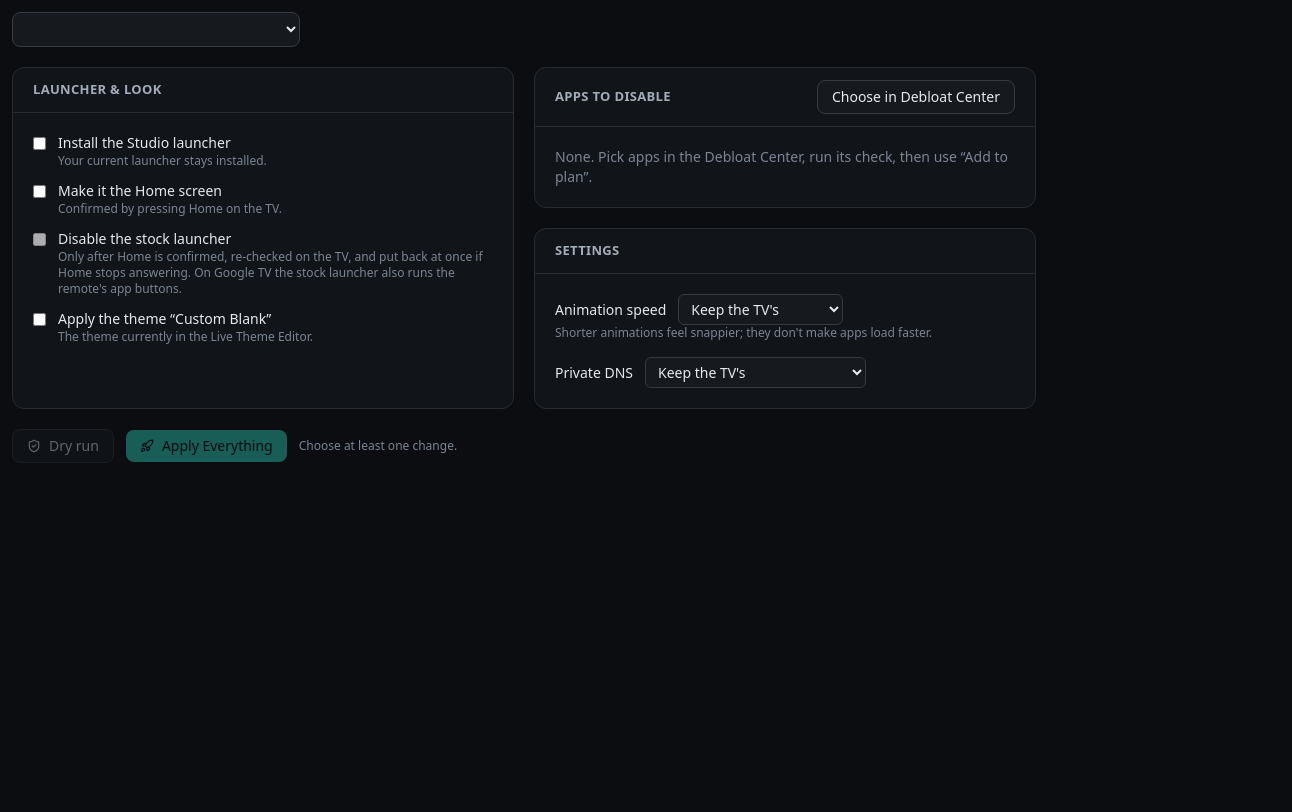
Test case: Deployment › needs a choice and a dry run before Apply Everything
Expected: the button "Apply Everything" is disabled, [126, 430, 287, 462]
Expected: the text "Choose at least one change." is shown, [299, 438, 457, 454]
Select "Faster (0.5×)" in the dropdown labelled "Animation speed". click: point(761, 309)
box: [678, 294, 843, 324]
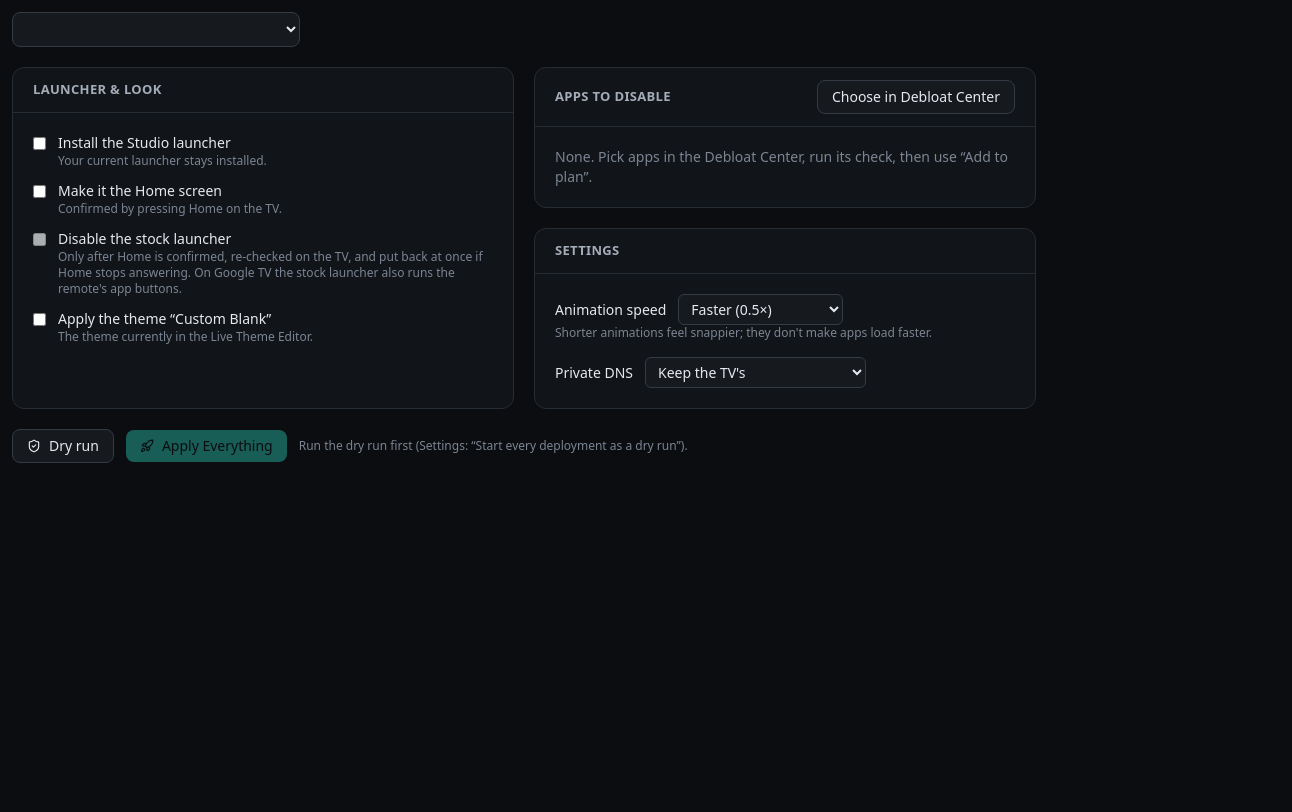
Expected: the button "Apply Everything" is disabled, [126, 430, 287, 462]
Click the button "Dry run". click: point(63, 446)
box: [12, 428, 114, 462]
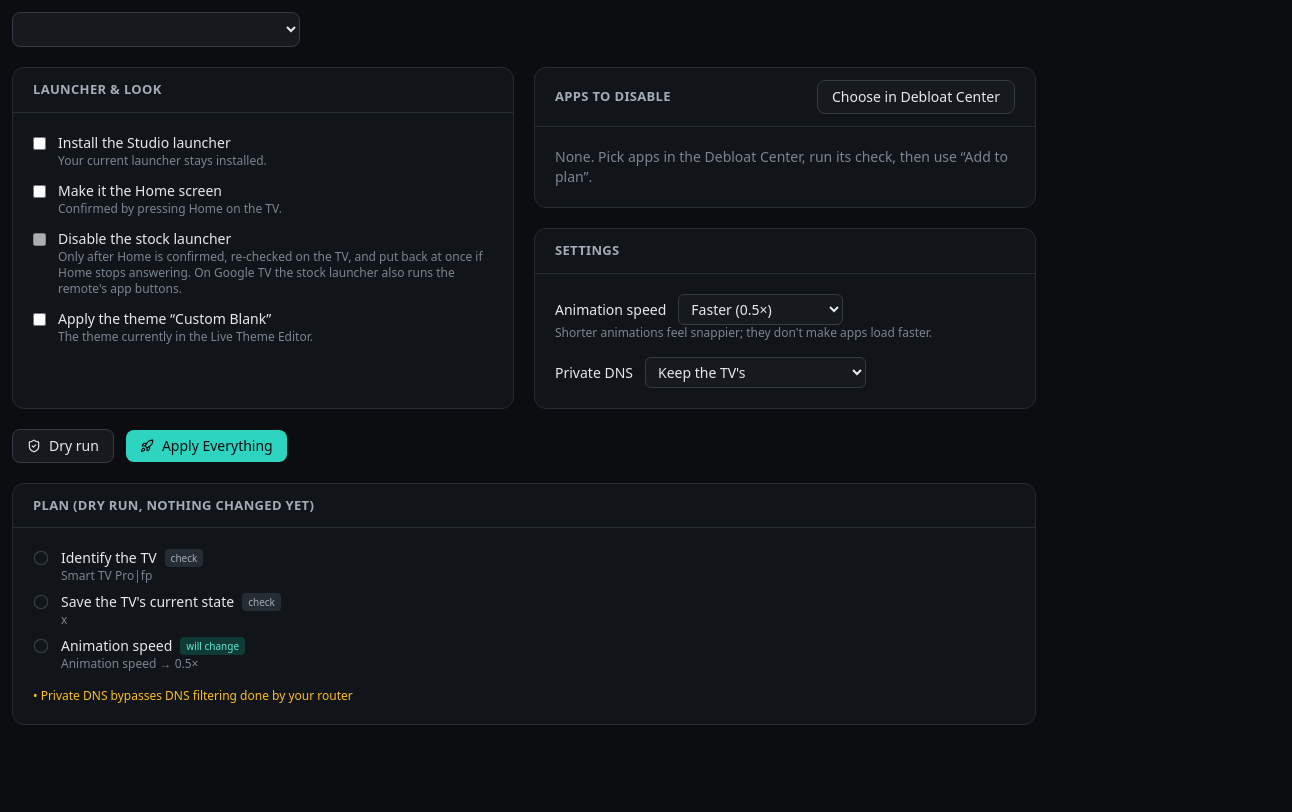
Expected: the text "Animation speed → 0.5×" is shown, [61, 655, 198, 672]
Expected: the text "will change" is shown, [180, 637, 245, 655]
Expected: the list item "• Private DNS bypasses DNS filtering done by your router" is shown, [33, 687, 353, 704]
// Changing the plan after the dry run requires a new one.
Select "Off" in the dropdown labelled "Animation speed". click: point(761, 309)
box: [678, 294, 843, 324]
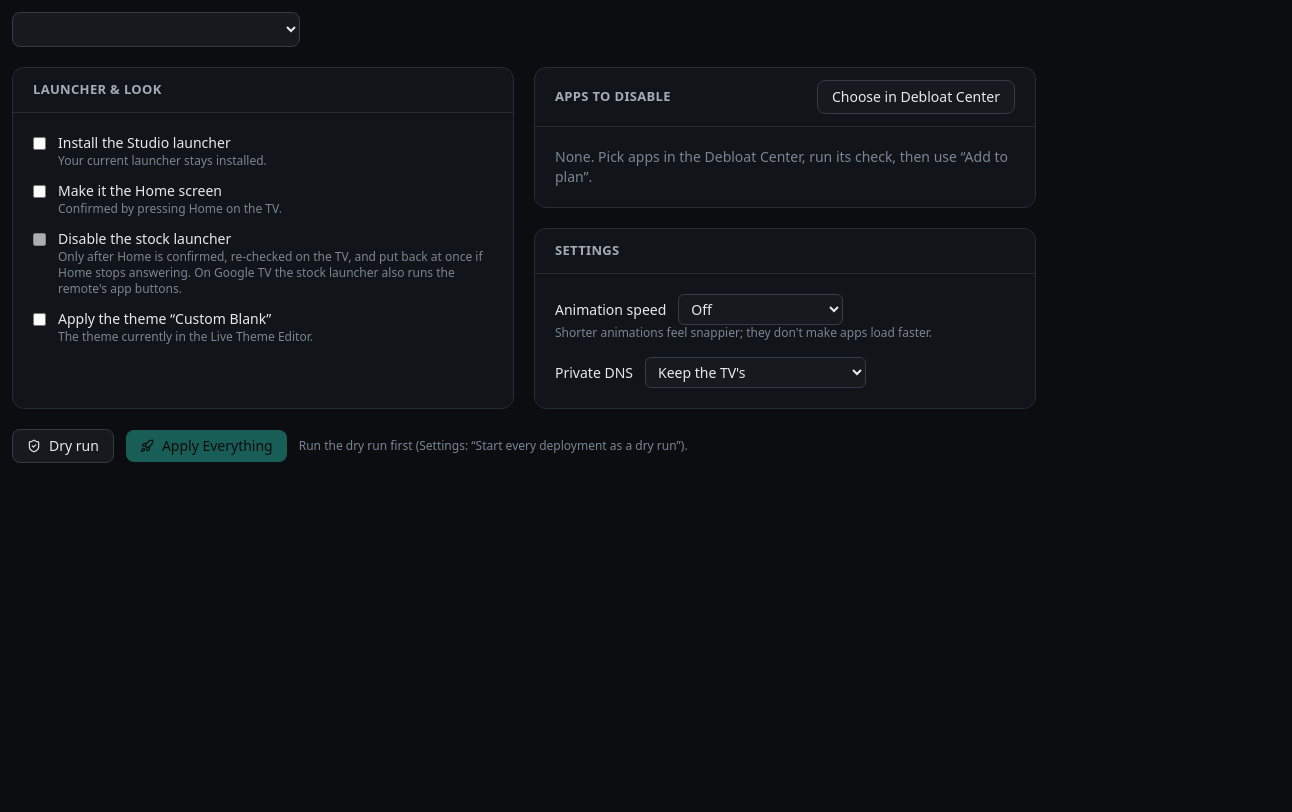
Expected: the button "Apply Everything" is disabled, [126, 430, 287, 462]
